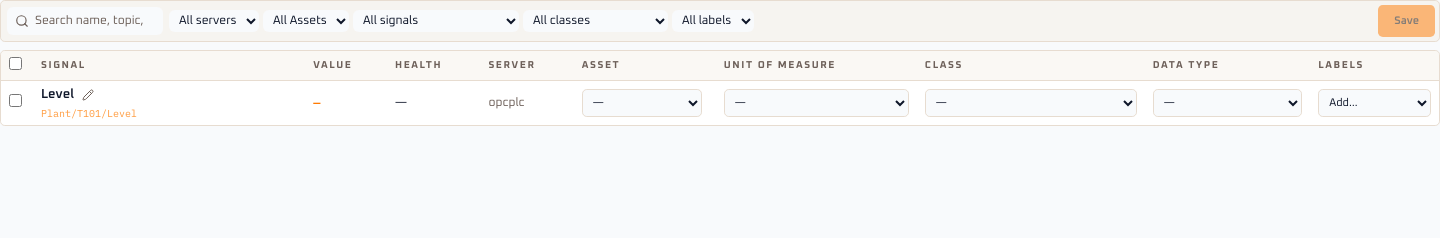
Scenario: SignalsTab › keeps the Other label field when saveSignalLabel fails
Select "Other…" in the dropdown named "Add label to Level": (1375, 103) x1=1318 y1=89 x2=1431 y2=117
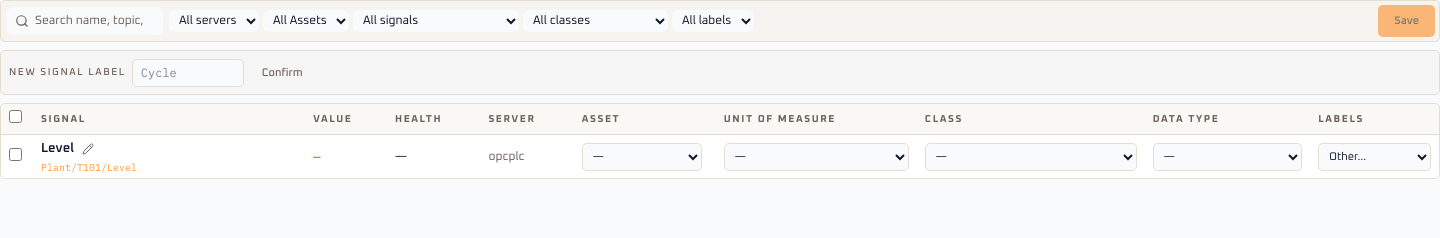
In the field named "New signal label": (188, 72) x1=132 y1=58 x2=244 y2=86, type "Custom"
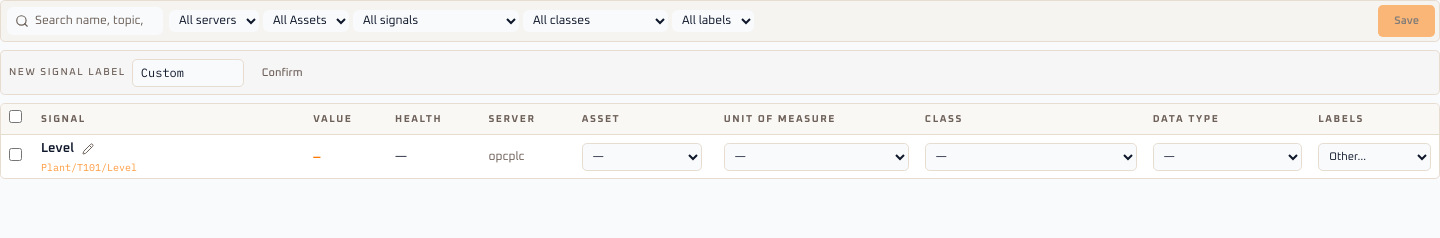
Click the button "Confirm": (282, 73) x1=250 y1=57 x2=315 y2=88
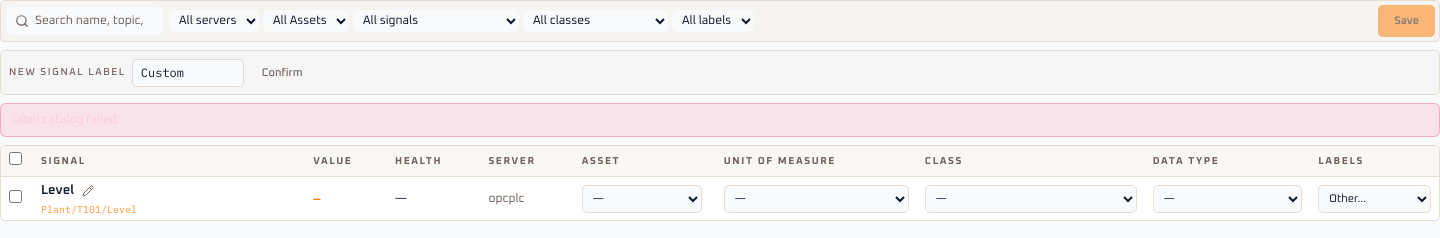
Expected: the text "label catalog failed" is shown, x1=0 y1=103 x2=1439 y2=137
